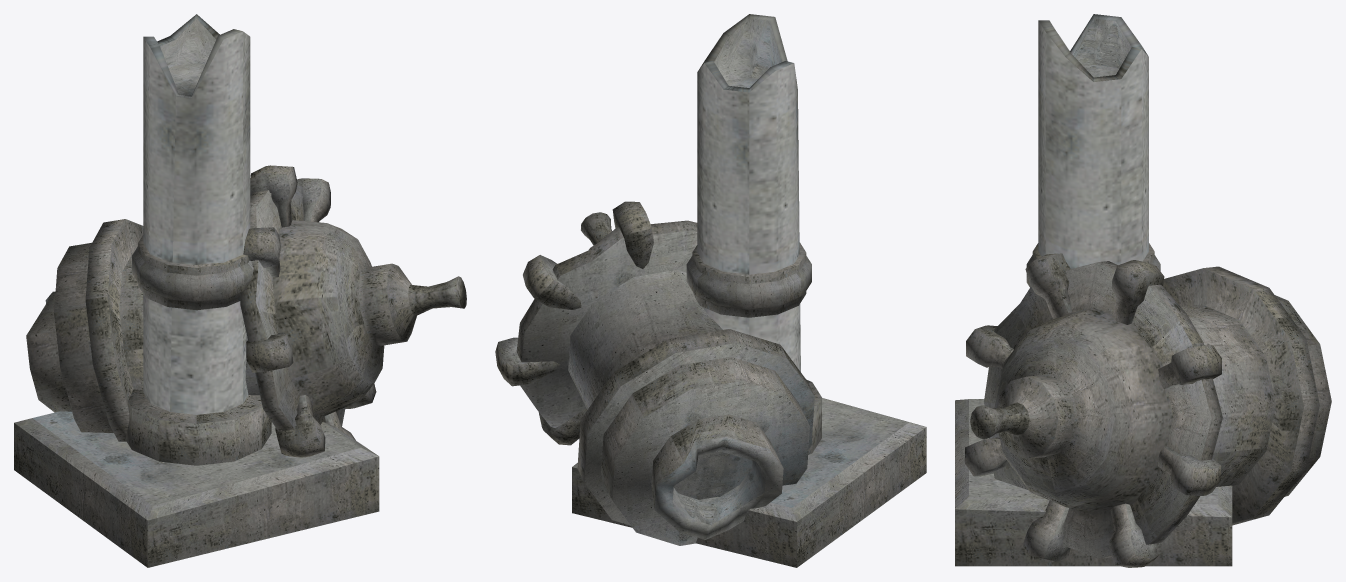
The model's file is pilar1mquebrado.fbx.
3 views of the same model, side by side, from view 1: azimuth 30°, elevation 25°; view 2: azimuth 150°, elevation 25°; view 3: azimuth 270°, elevation 25° (orthographic). The views are drawn at different scales.
Parts seen in each view (by area): view 1: Cube; view 2: Cube; view 3: Cube.
Boxes of the visible parts, <box> form: Cube: <box>14,14,466,567</box>; Cube: <box>495,14,926,567</box>; Cube: <box>955,14,1331,567</box>.
Bounding box in the file's own units: 1.05 × 1.42 × 0.979.
